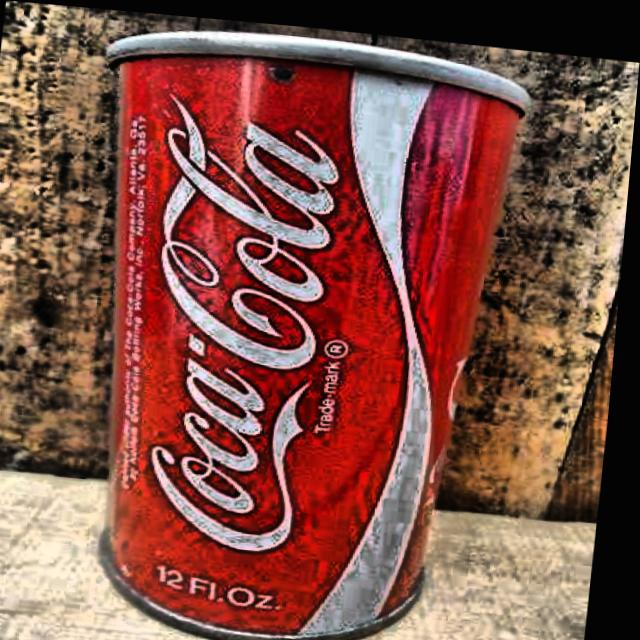Cans: (45, 6, 532, 640)
